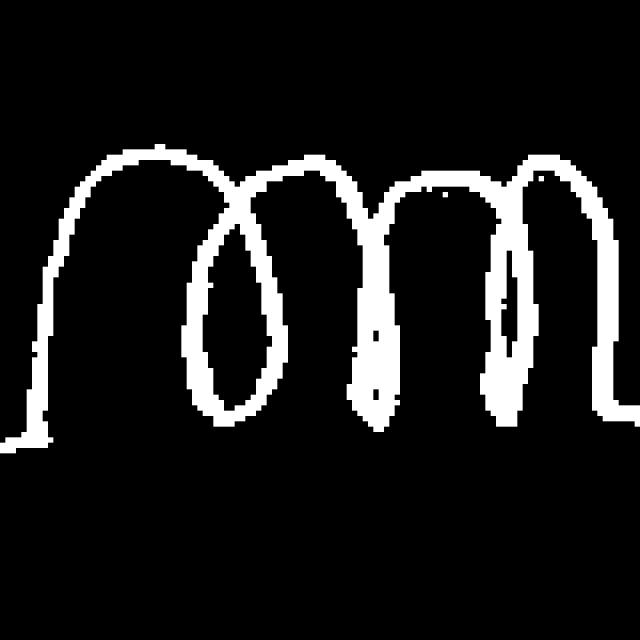inductor: (16, 112, 640, 469)
